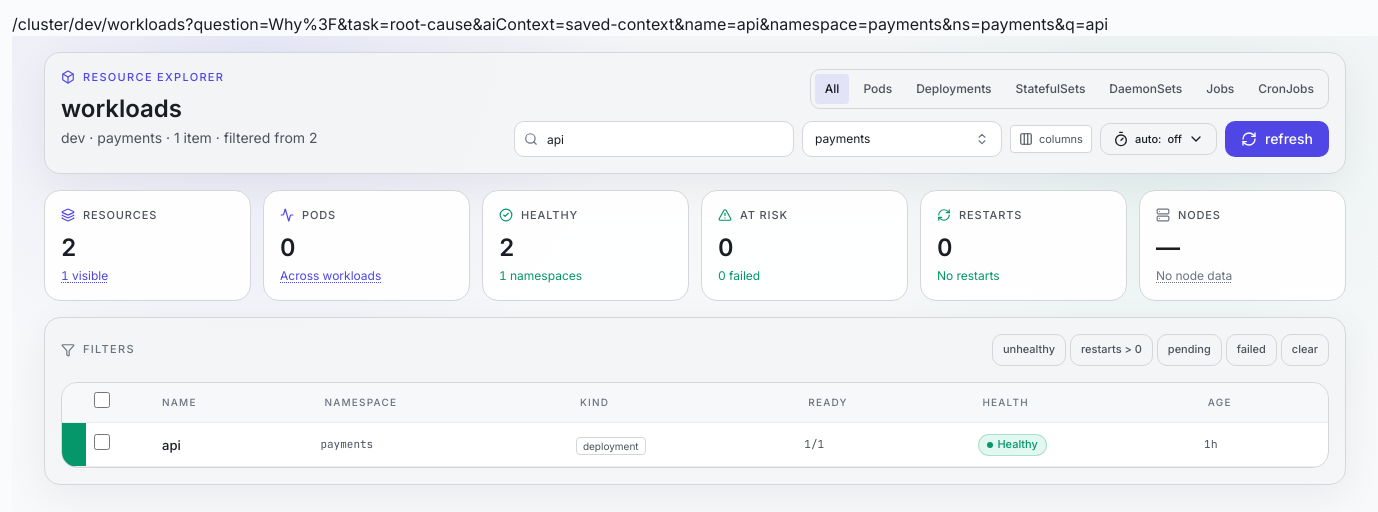
Scenario: retired assistant destination › retains saved question and context after workloads normalizes and changes its filters
The image size is (1378, 512).
Expected: the text "api" is shown, 162,436 -> 181,452
Replace the text in the field with placeholder "search workloads..." with "web" at (654, 139), box 514,121 -> 794,157
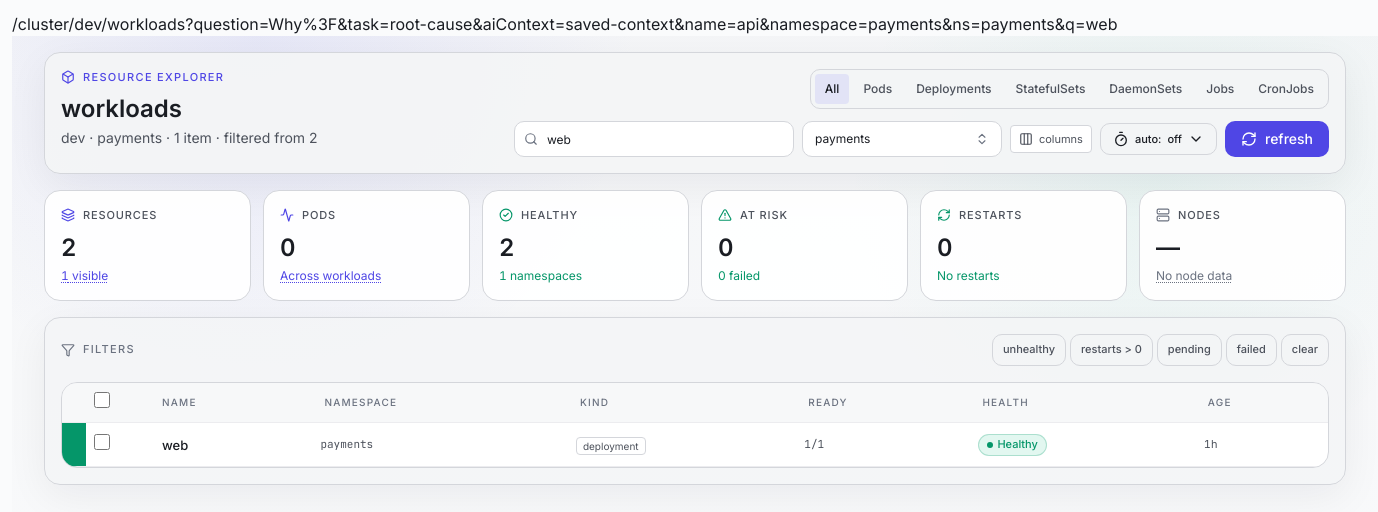
Expected: the text "web" is shown, 162,436 -> 188,452
